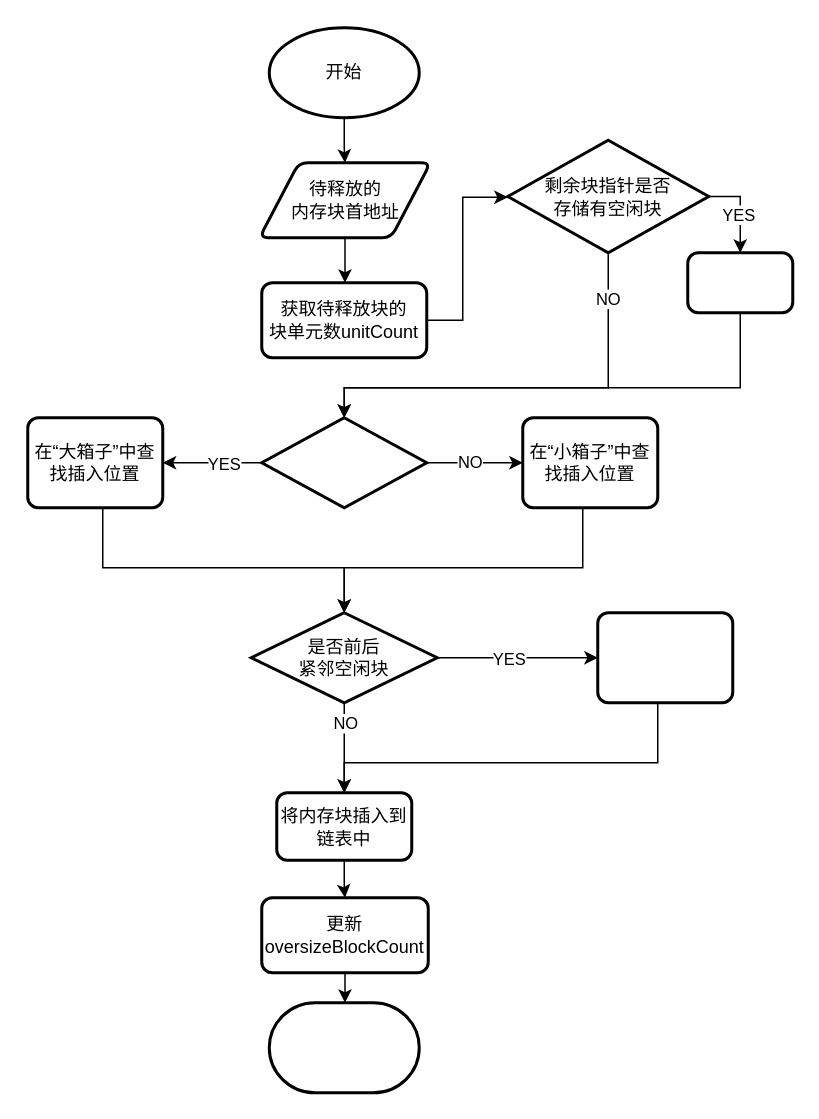
The diagram is 819 pixels wide and 1119 high, and some of its shapes have lost their labels. Each missing label, with the centre of its shape:
"unitCount>=32" goes at point (344, 462).
"将紧邻的空闲块和待释放块合并" goes at point (665, 657).
"尝试与该空闲块合并" goes at point (740, 282).
"结束" goes at point (343, 1047).
